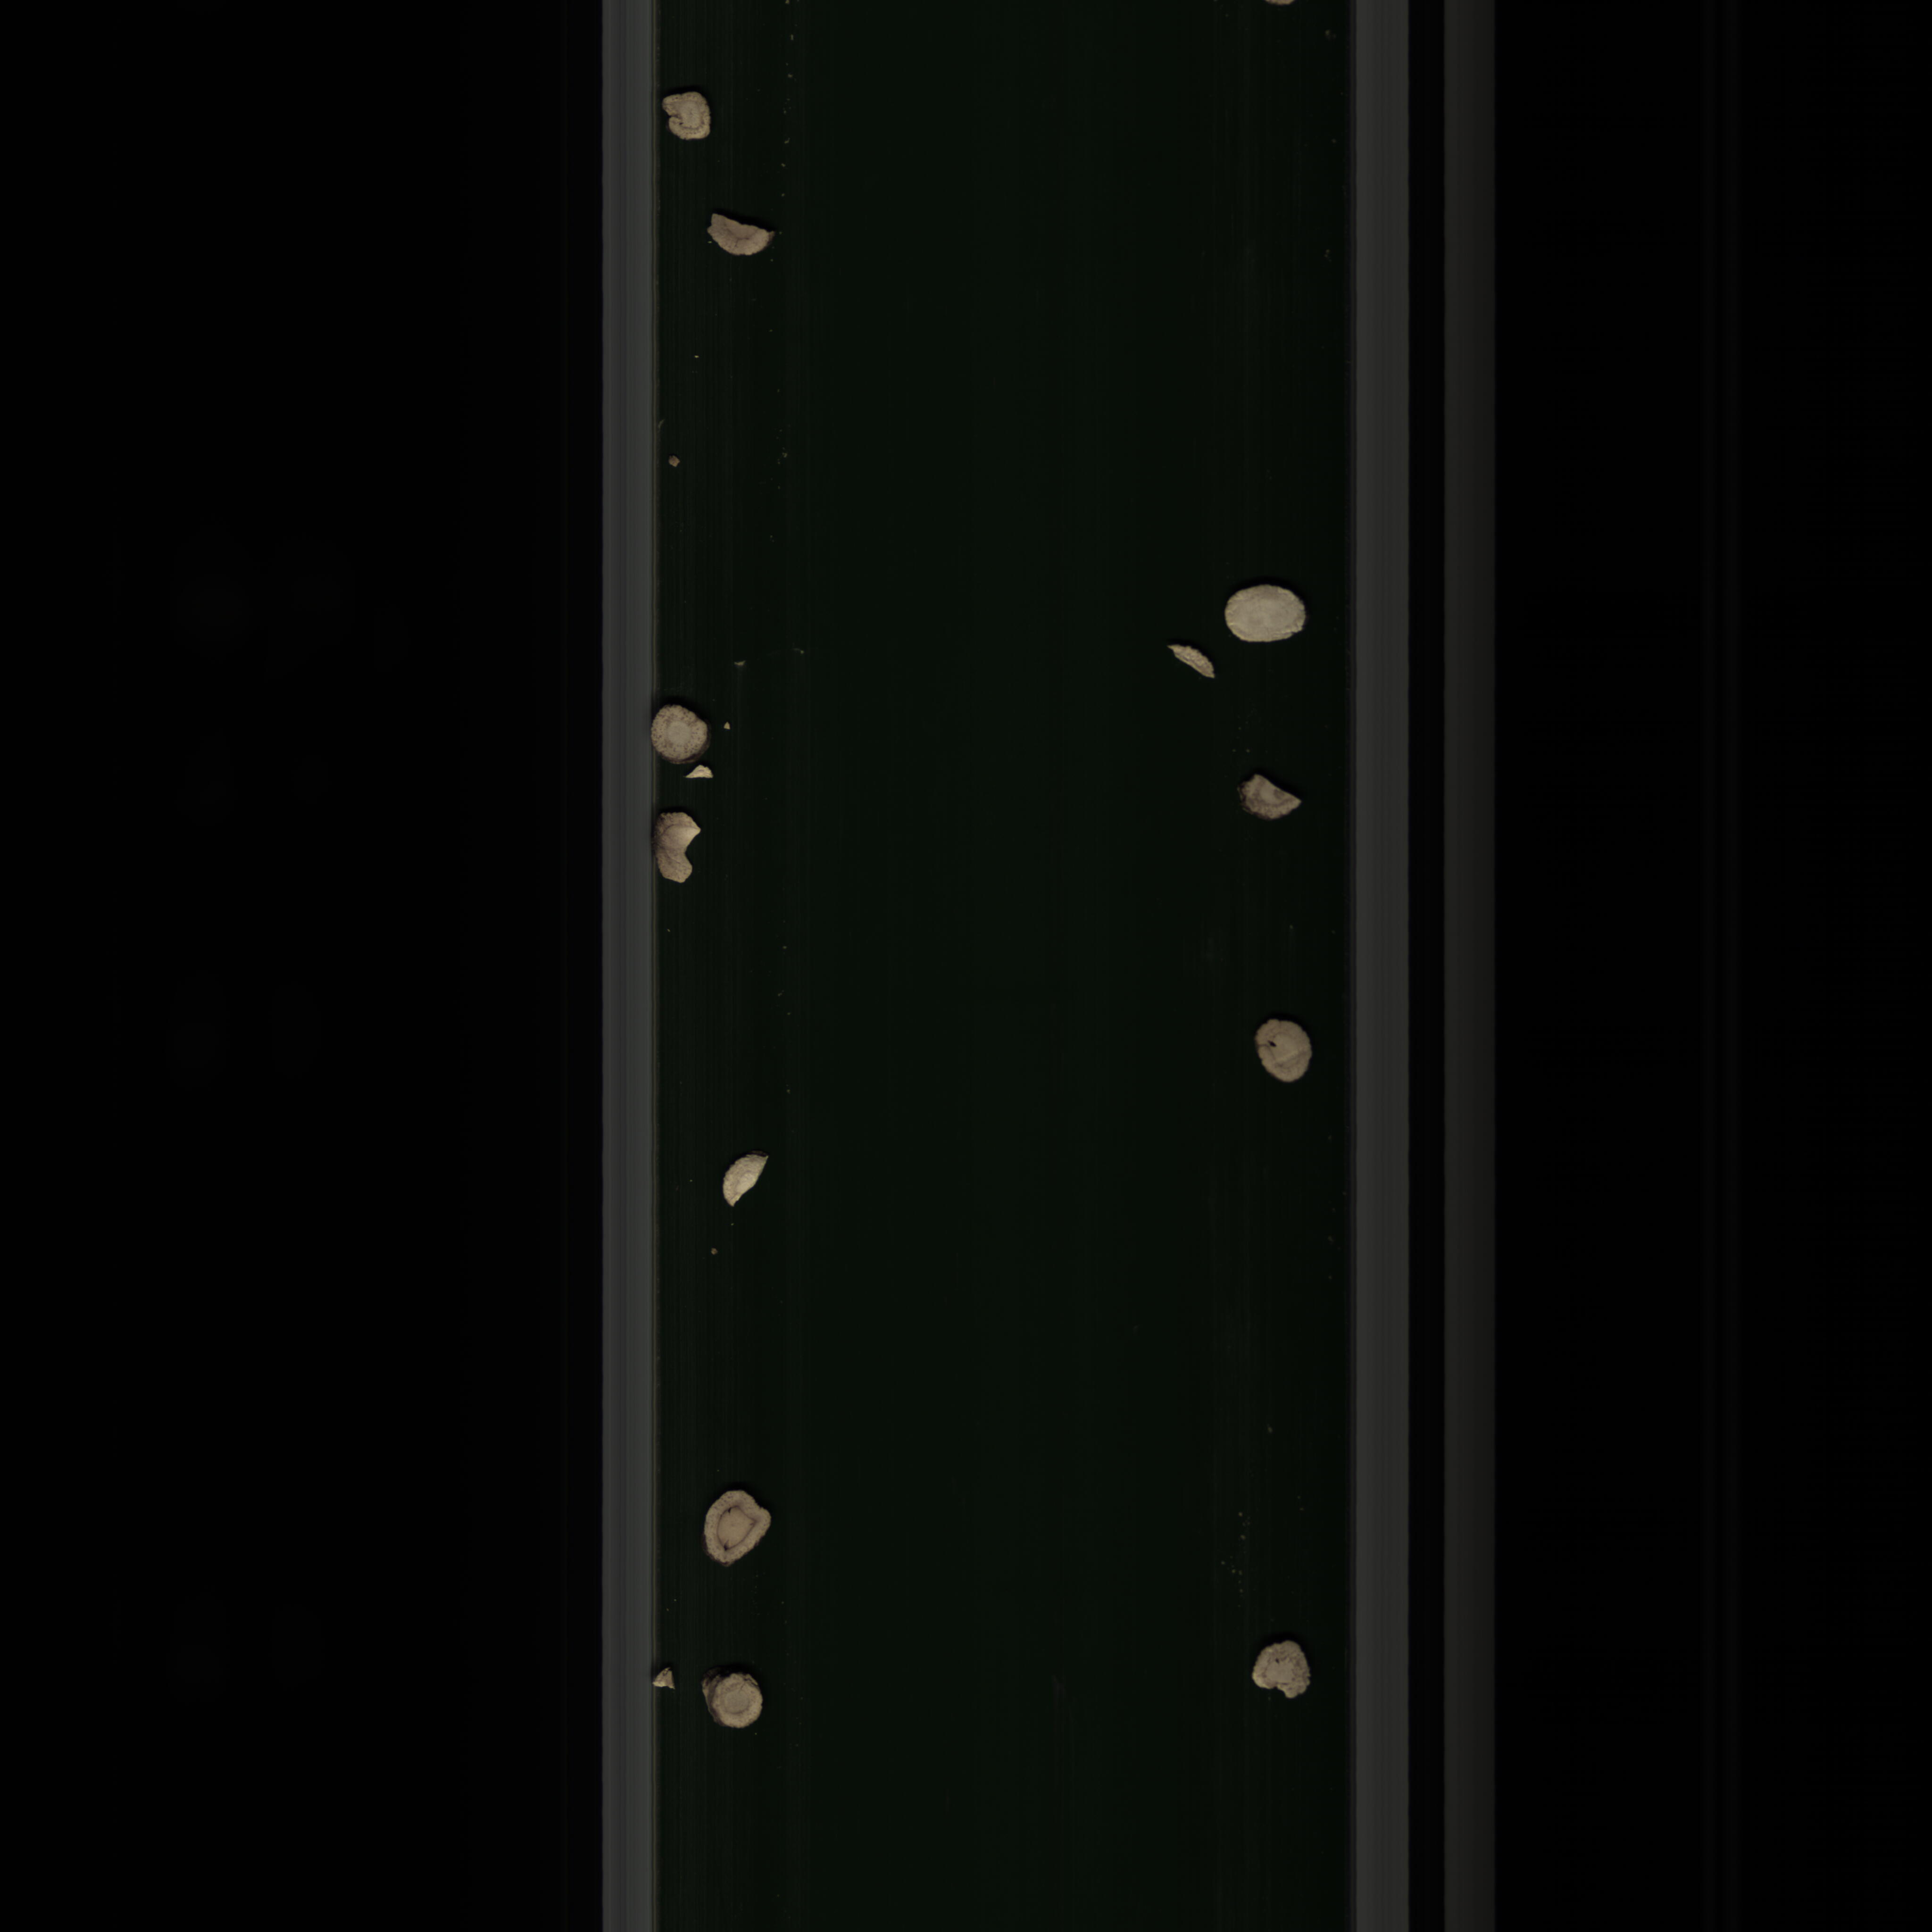debris: (1231, 766, 1318, 832), (702, 205, 786, 265), (655, 801, 706, 897), (1157, 632, 1221, 701), (717, 1150, 771, 1210), (683, 766, 725, 786), (655, 1663, 678, 1697)
distortion: (656, 83, 725, 150)
hole: (702, 1483, 782, 1571), (1240, 1635, 1323, 1713), (1249, 1017, 1322, 1092)
